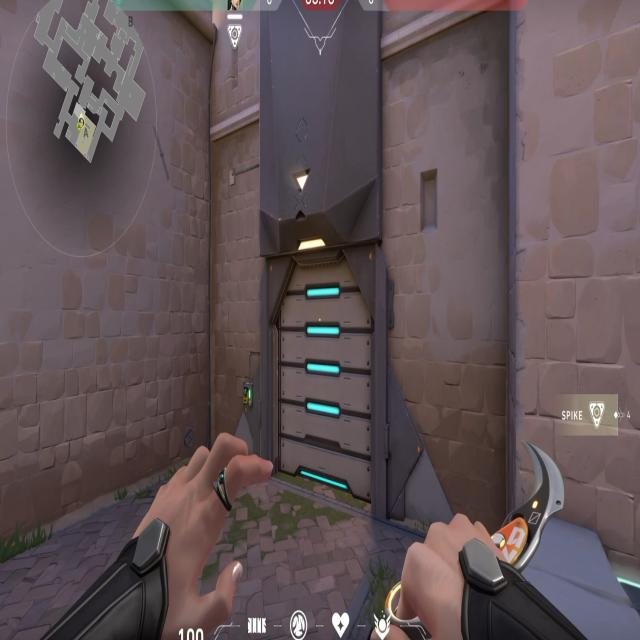A_Door: (263, 244, 385, 504)
